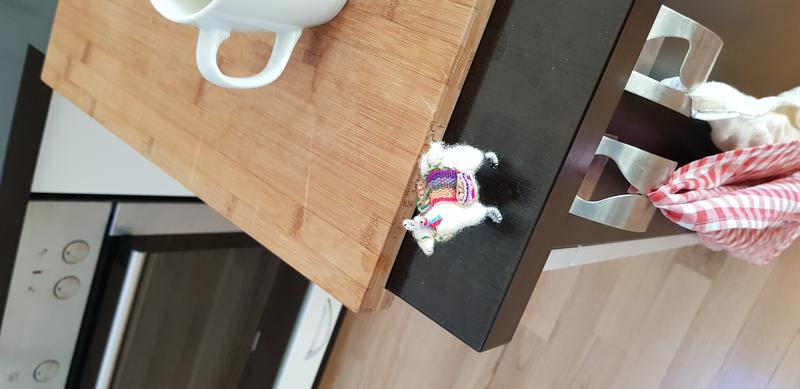Horse-Toy: (392, 134, 514, 262)
